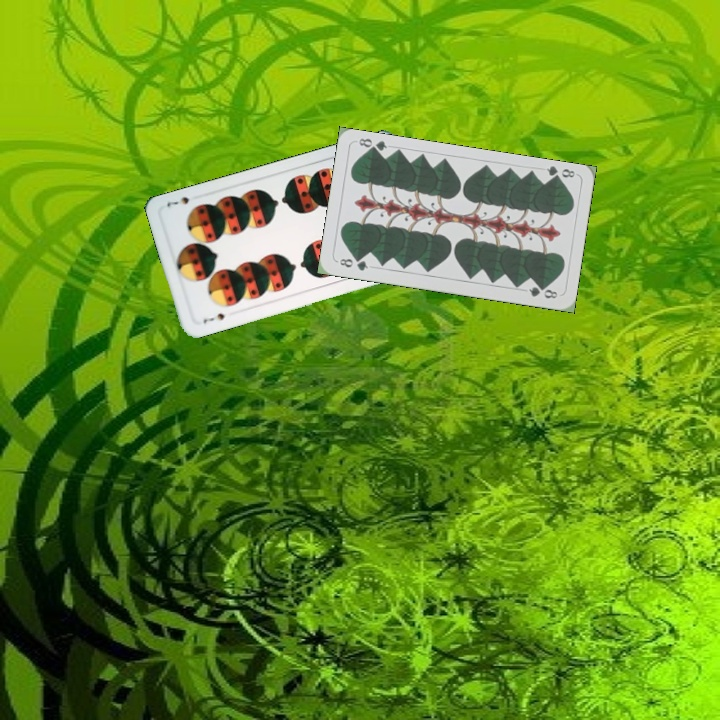G8: (542, 162, 577, 184), (335, 254, 371, 273)
S7: (199, 309, 227, 326)
